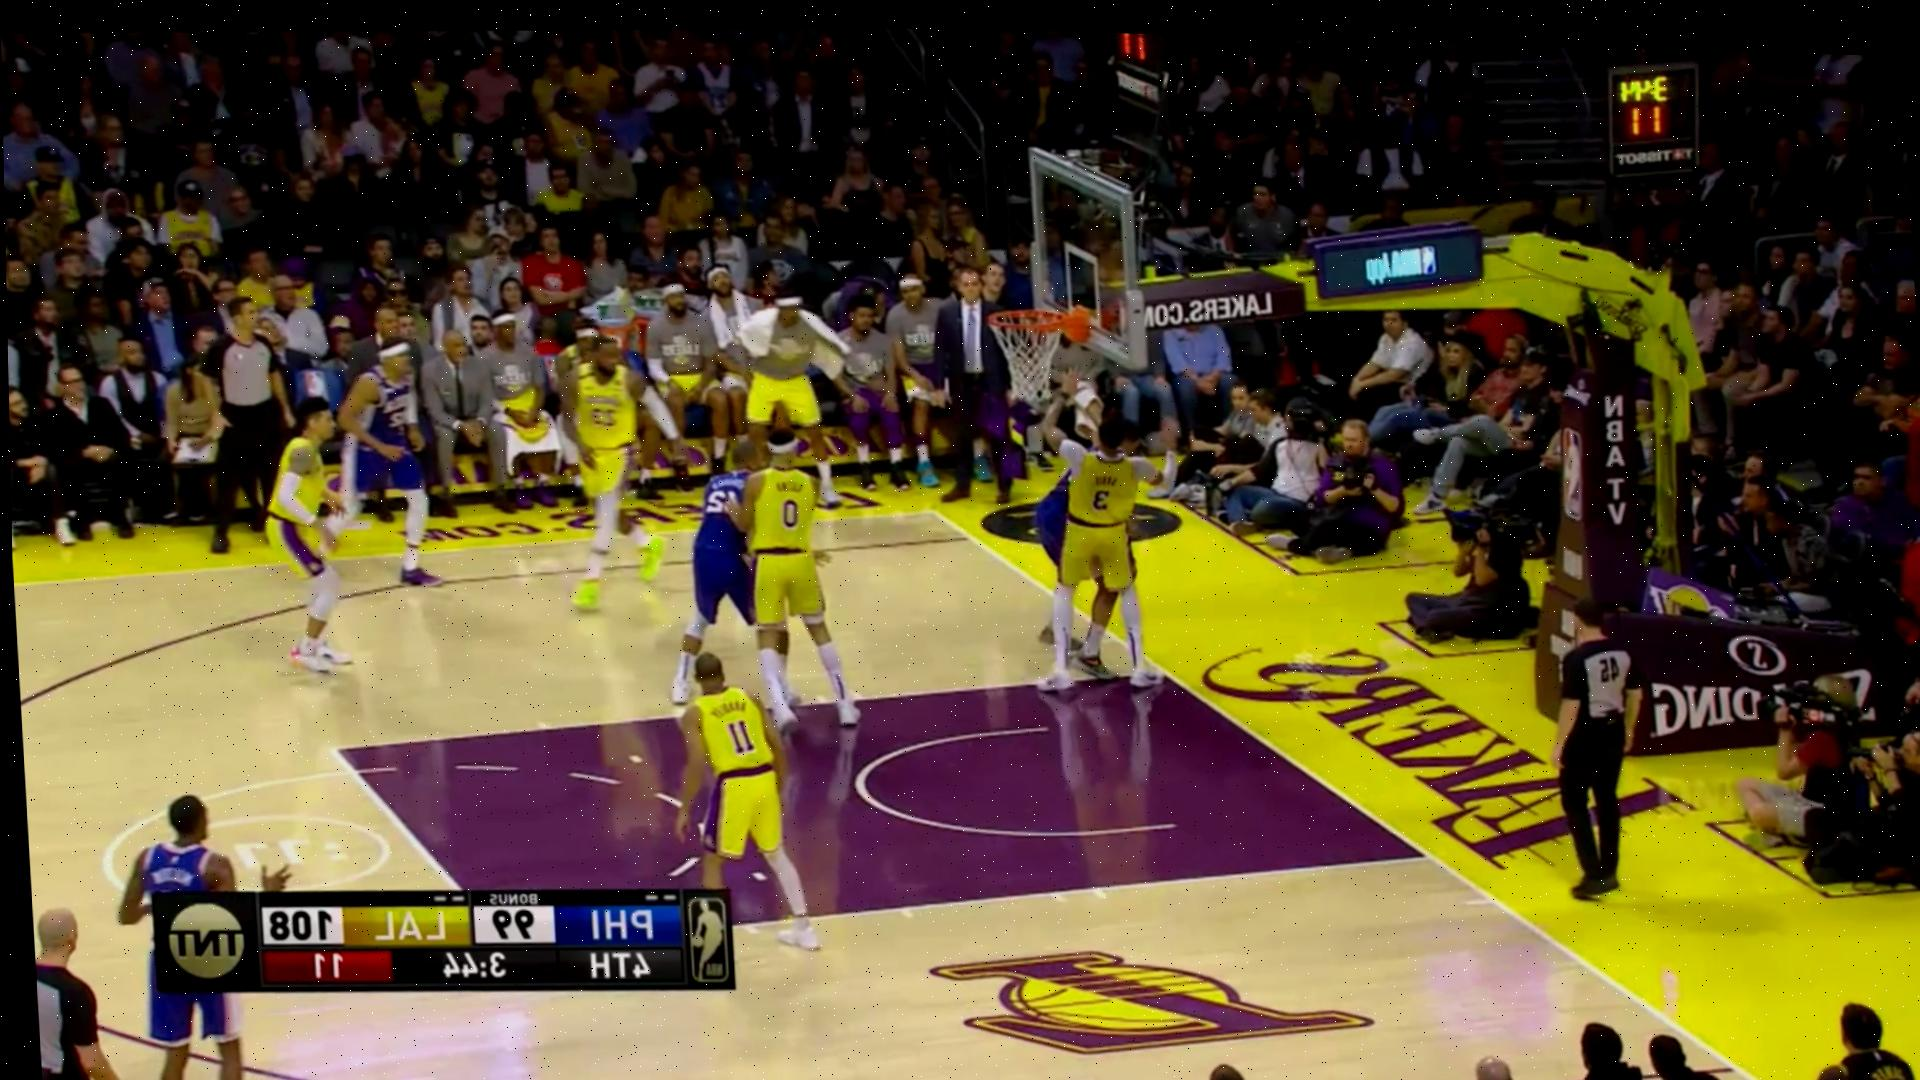foul: (1013, 407, 1160, 692)
